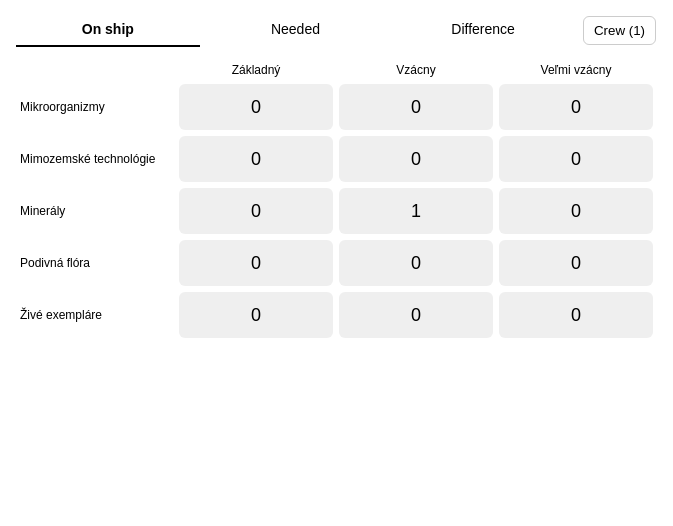
Test case: ShipPage › shows the store error in a banner
Click the button with test id "cell-minerals-rare". click: {"x": 416, "y": 211}
box: x1=339 y1=188 x2=493 y2=234
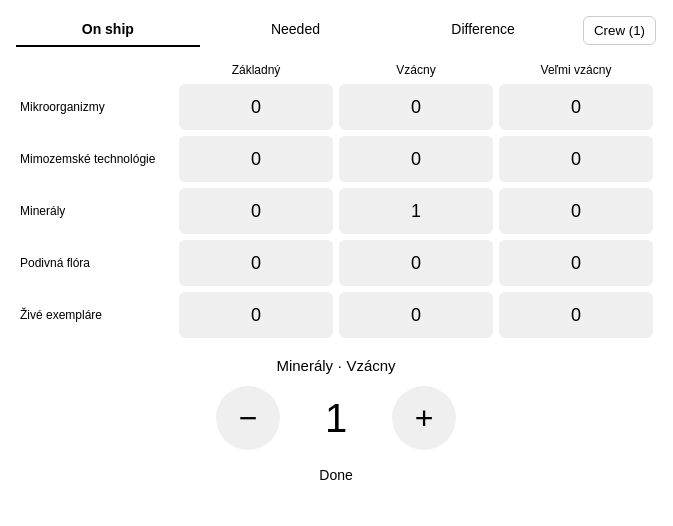
Click the button with test id "stepper-plus". click: {"x": 424, "y": 418}
box: x1=392 y1=386 x2=456 y2=450
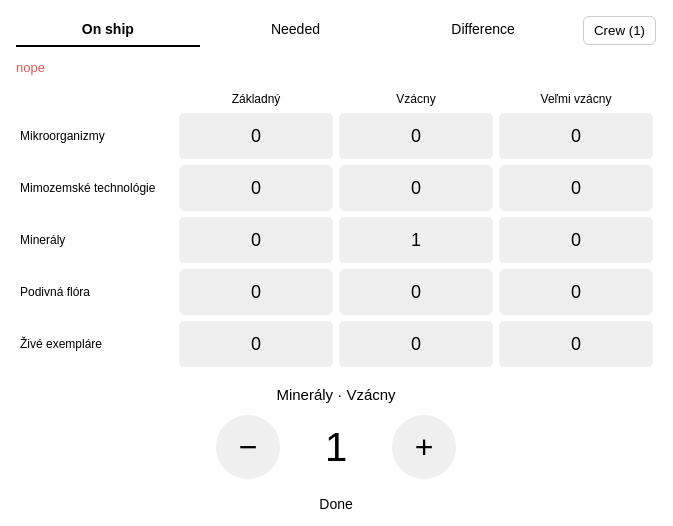
Expected: the text with test id "ship-error" reads "nope", x1=16 y1=60 x2=45 y2=75
